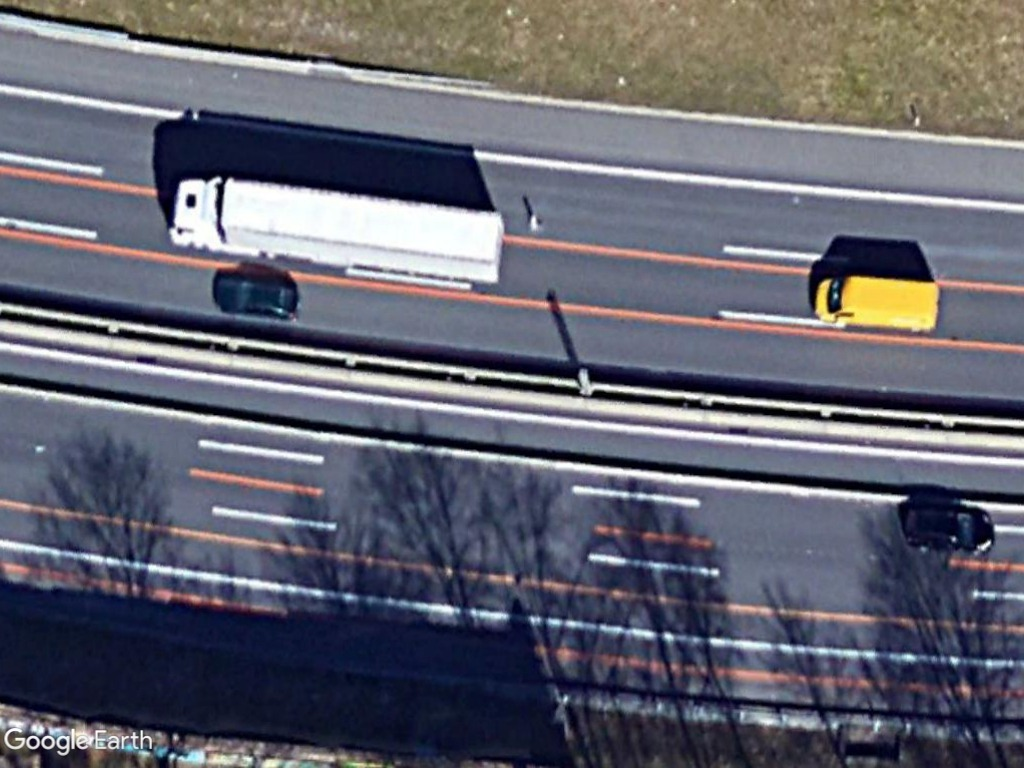car: (214, 276, 303, 320)
longvehicle: (168, 176, 507, 286)
van: (812, 275, 942, 334)
